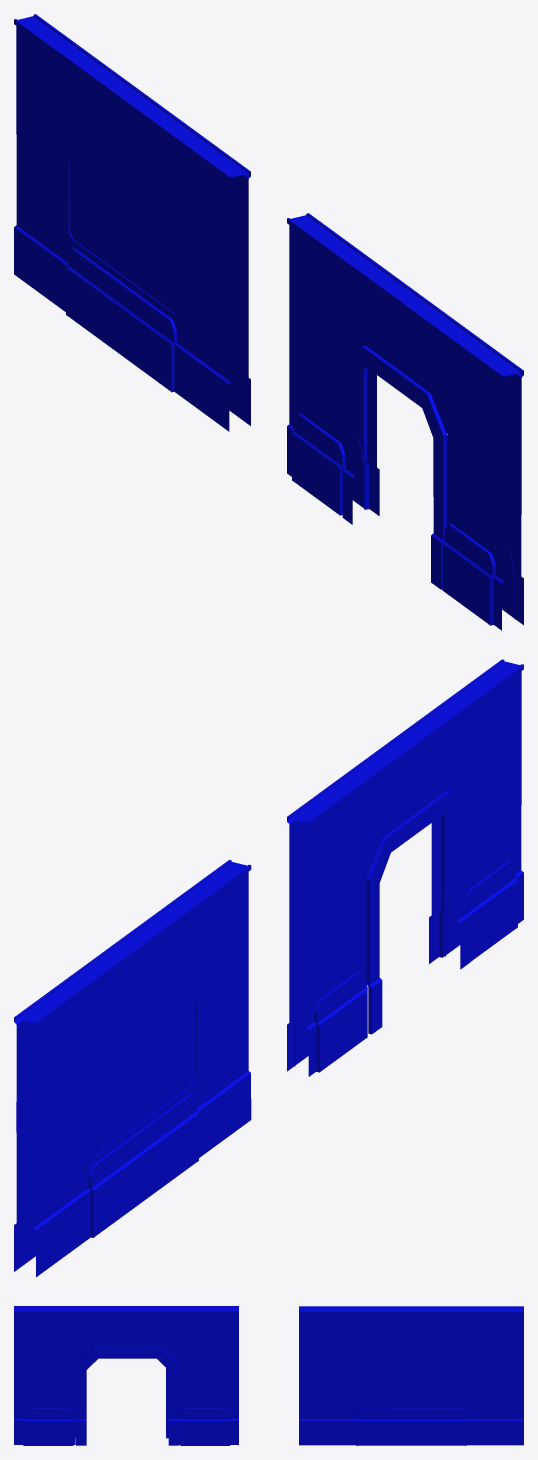
The model's file is Window_DF_Paint.FBX.
3 renders of one model, top to bottom at view 1: azimuth 30°, elevation 25°; view 2: azimuth 150°, elevation 25°; view 3: azimuth 270°, elevation 25°, orthographic. The views are drawn at different scales.
Visible parts, largest first — view 1: Wall_Window, Wall_Doorframe; view 2: Wall_Window, Wall_Doorframe; view 3: Wall_Window, Wall_Doorframe.
Part boxes in pixels (<box>): Wall_Window: <box>14,14,250,431</box>; Wall_Doorframe: <box>287,213,523,630</box>; Wall_Window: <box>14,860,251,1277</box>; Wall_Doorframe: <box>287,659,523,1076</box>; Wall_Window: <box>299,1306,523,1445</box>; Wall_Doorframe: <box>14,1306,238,1445</box>.
Size of the model in its own units: 15.39 by 129 by 446.
